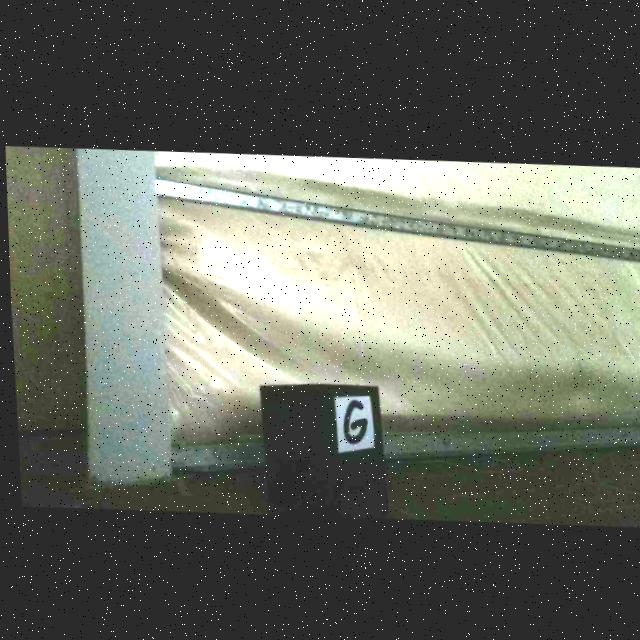G: (340, 396, 364, 439)
